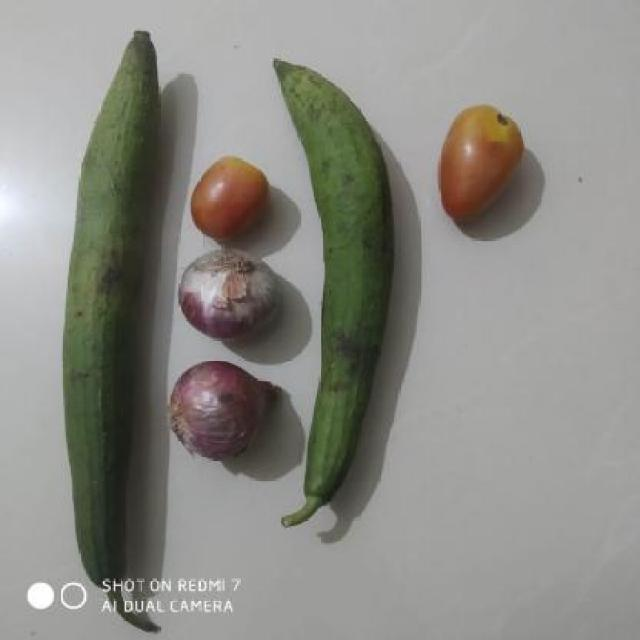Onion: (169, 356, 285, 462), (182, 250, 284, 344)
Sponge Gourd: (21, 21, 175, 640), (286, 51, 431, 530)
Tomato: (434, 87, 538, 235), (190, 146, 296, 246)
